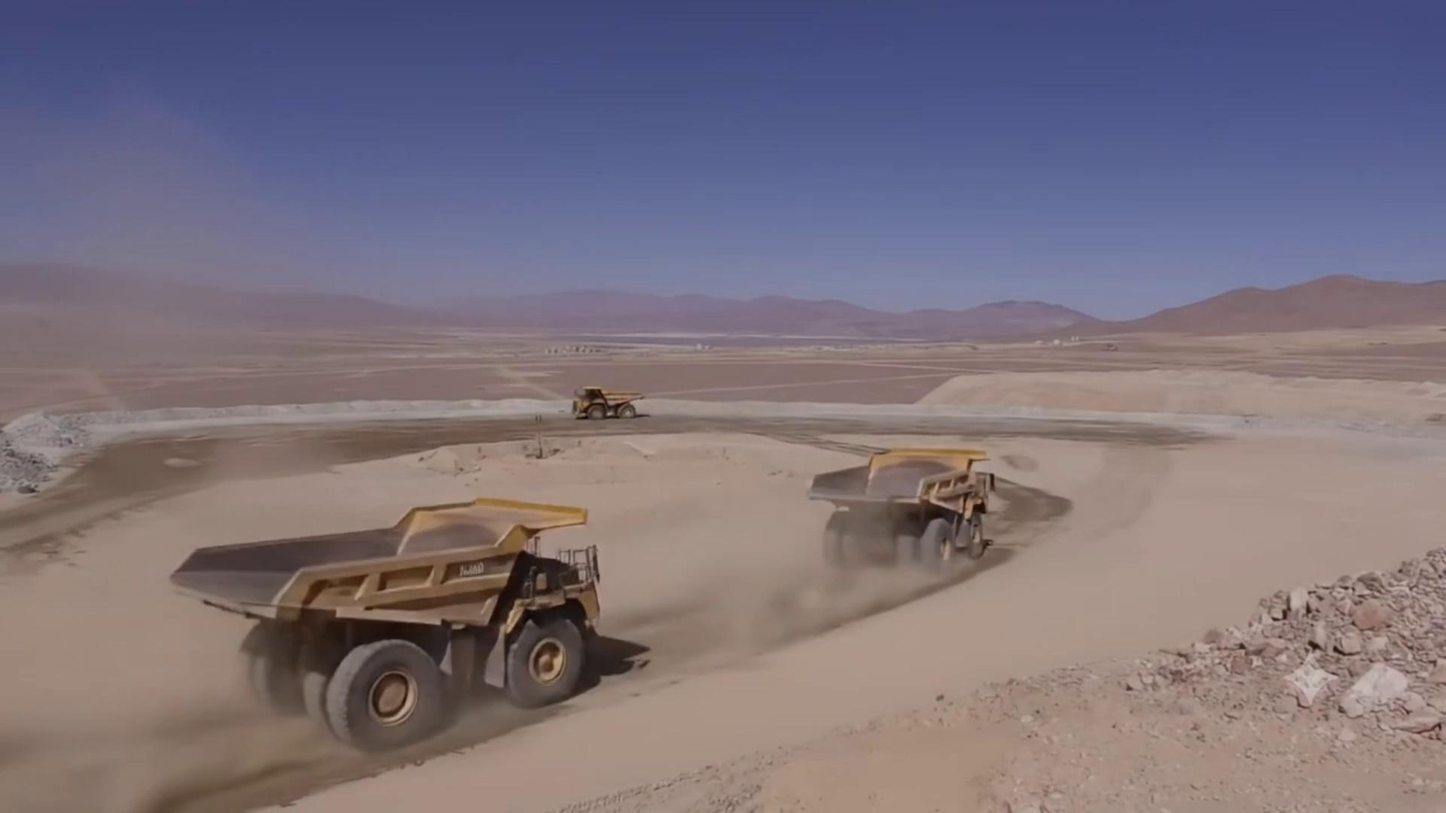CAEX: (171, 498, 598, 751), (807, 448, 995, 571), (572, 386, 643, 418)
